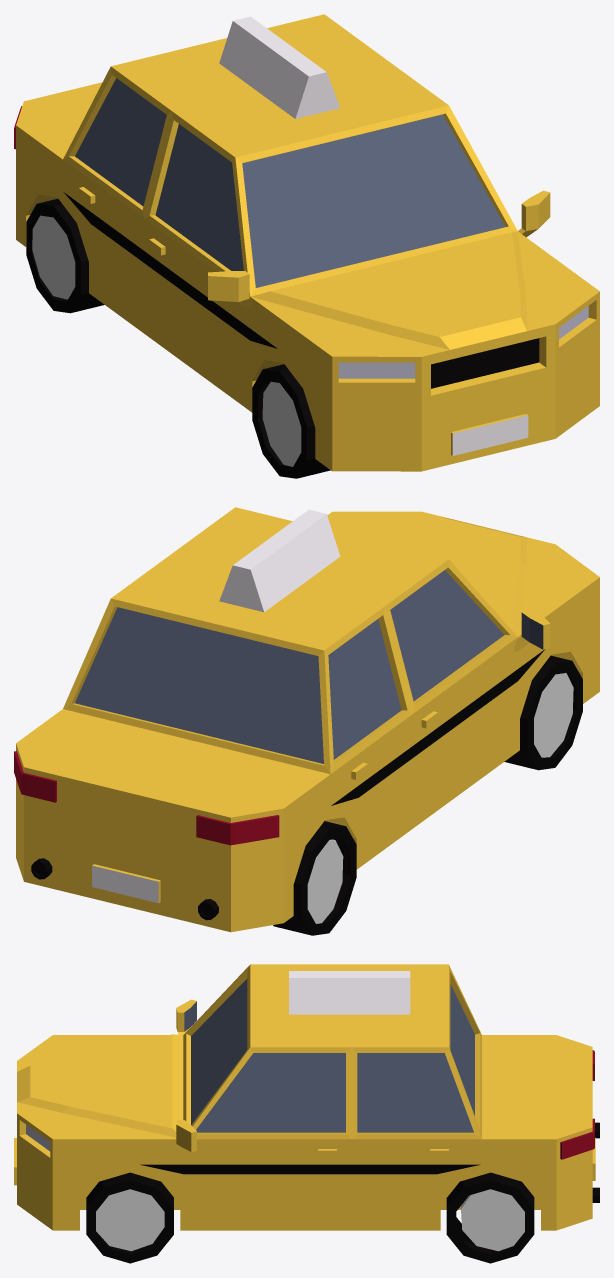
Rendered from taxi.gltf.
3 renders of one model, top to bottom at view 1: azimuth 30°, elevation 25°; view 2: azimuth 150°, elevation 25°; view 3: azimuth 270°, elevation 25°, orthographic. The views are drawn at different scales.
Visible parts, largest first — view 1: Taxi_body yellow_0, Taxi_windows_0, Taxi_body white_0, Taxi_body black_0, Taxi wheel front right_tires_0, Taxi wheel rear right_tires_0, Cilindro.003, Cilindro.002, Taxi_headlights_0; view 2: Taxi_body yellow_0, Taxi_windows_0, Taxi_body white_0, Taxi wheel rear right_tires_0, Taxi wheel front right_tires_0, Taxi_body black_0, Taxi_rear lights_0, Cilindro.002, Cilindro.003; view 3: Taxi_body yellow_0, Taxi_windows_0, Taxi_body white_0, Taxi_body black_0, Taxi wheel rear left_tires_0, Cilindro, Taxi wheel front left_tires_0, Cilindro.001, Taxi_rear lights_0.
Boxes of the visible parts, x1,y1,x2,y2 form: Taxi_body yellow_0: (16,14,599,471); Taxi_windows_0: (75,78,505,287); Taxi_body white_0: (219,16,528,455); Taxi_body black_0: (63,192,539,388); Taxi wheel front right_tires_0: (252,364,330,478); Taxi wheel rear right_tires_0: (26,198,104,313); Cilindro.003: (32,215,75,299); Cilindro.002: (262,381,301,466); Taxi_headlights_0: (338,306,588,378); Taxi_body yellow_0: (16,507,599,932); Taxi_windows_0: (75,570,543,763); Taxi_body white_0: (92,509,340,903); Taxi wheel rear right_tires_0: (273,821,356,935); Taxi wheel front right_tires_0: (504,655,582,770); Taxi_body black_0: (31,649,544,920); Taxi_rear lights_0: (14,751,279,845); Cilindro.002: (534,673,573,757); Cilindro.003: (307,839,343,923); Taxi_body yellow_0: (14,964,595,1230); Taxi_windows_0: (184,978,474,1132); Taxi_body white_0: (289,971,410,1014); Taxi_body black_0: (140,1122,599,1202); Taxi wheel rear left_tires_0: (446,1172,534,1263); Cilindro: (96,1189,164,1251); Taxi wheel front left_tires_0: (86,1172,173,1263); Cilindro.001: (461,1189,524,1251); Taxi_rear lights_0: (560,1050,594,1159).
Bounding box in the file's own units: 2.81 × 2.32 × 5.23.
